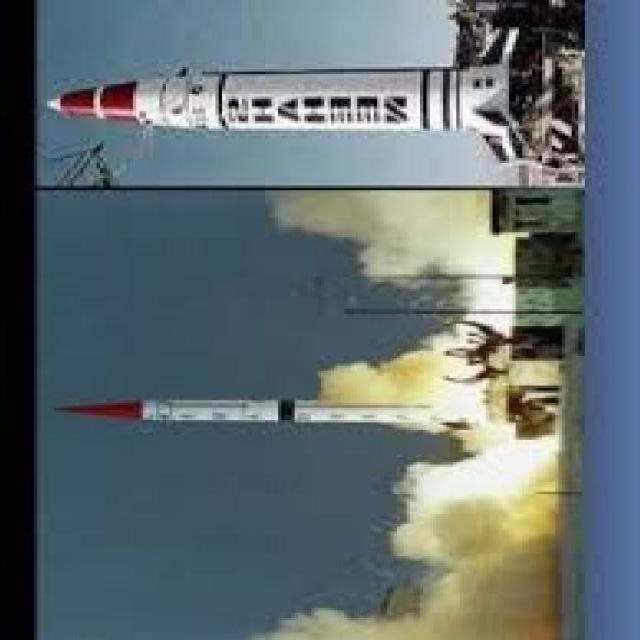Missile: (31, 64, 514, 134), (28, 398, 462, 430)
